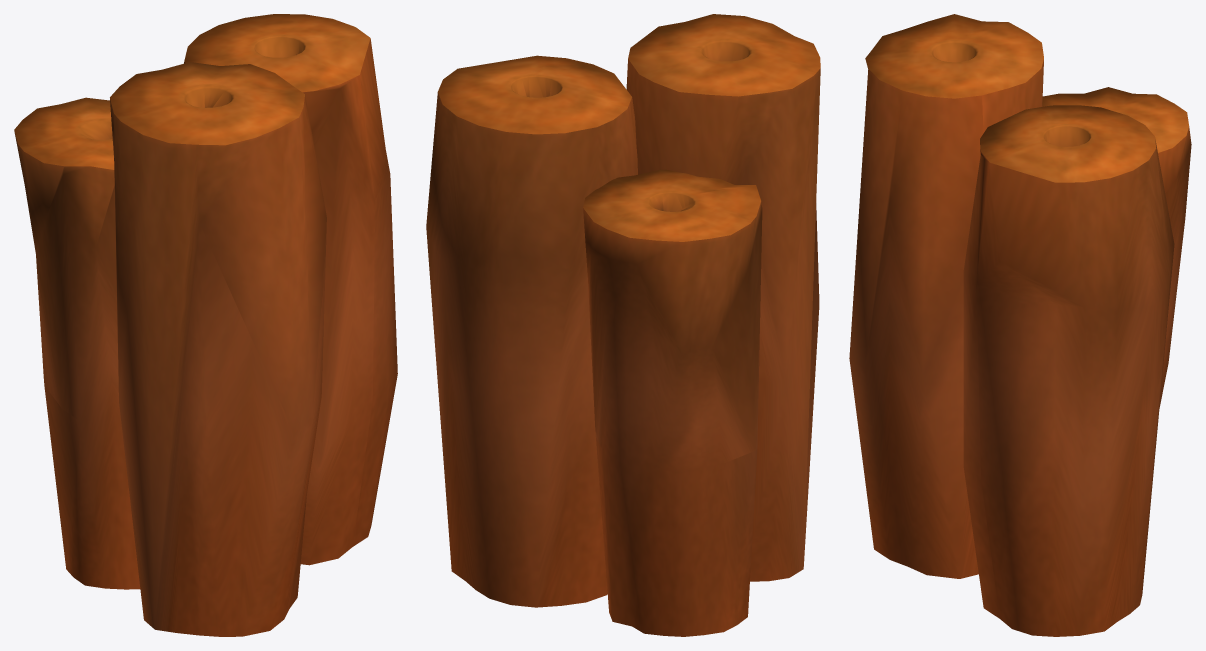
The model's file is seaGrassCylinderDorangev2.fbx.
3 renders of one model, left to right at view 1: azimuth 30°, elevation 25°; view 2: azimuth 150°, elevation 25°; view 3: azimuth 270°, elevation 25°, orthographic. The views are drawn at different scales.
Visible parts, largest first — view 1: seaGrassCylinderDorangev2; view 2: seaGrassCylinderDorangev2; view 3: seaGrassCylinderDorangev2.
Boxes of the visible parts, x1,y1,x2,y2 form: seaGrassCylinderDorangev2: (14,14,397,636); seaGrassCylinderDorangev2: (426,14,820,636); seaGrassCylinderDorangev2: (849,14,1191,636).
Size of the model in its own units: 0.0738 by 0.1085 by 0.0688.
Materials: 1 (1 with a texture image).
